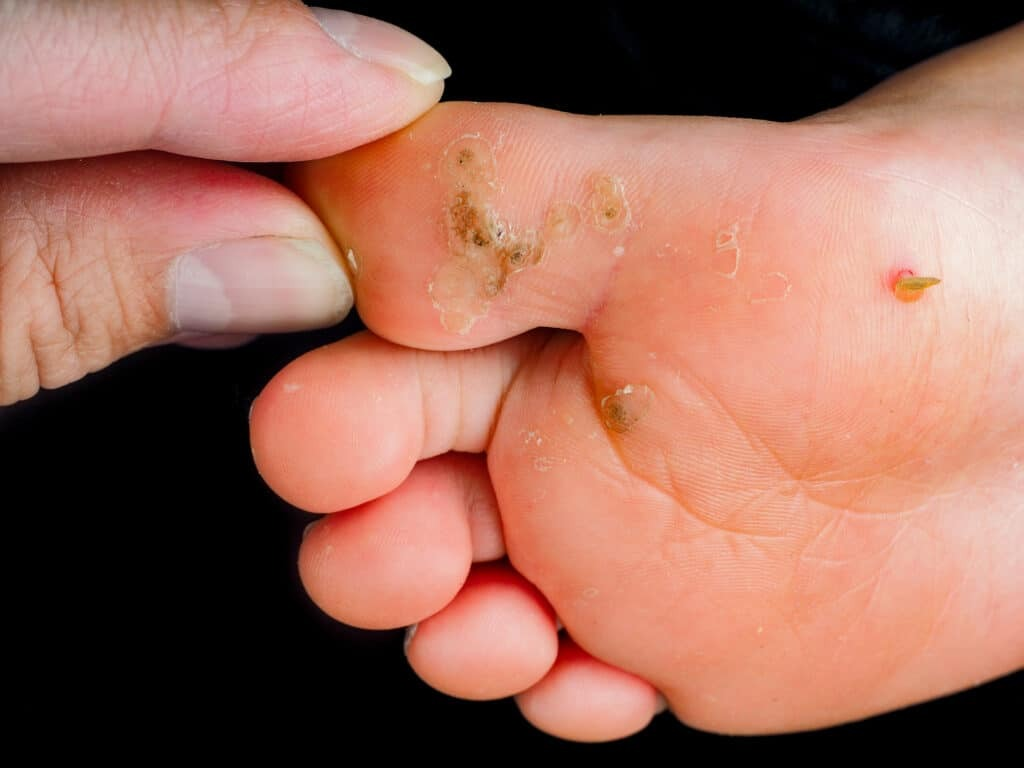Warts: (396, 122, 645, 341), (866, 242, 955, 334), (582, 372, 666, 450)
